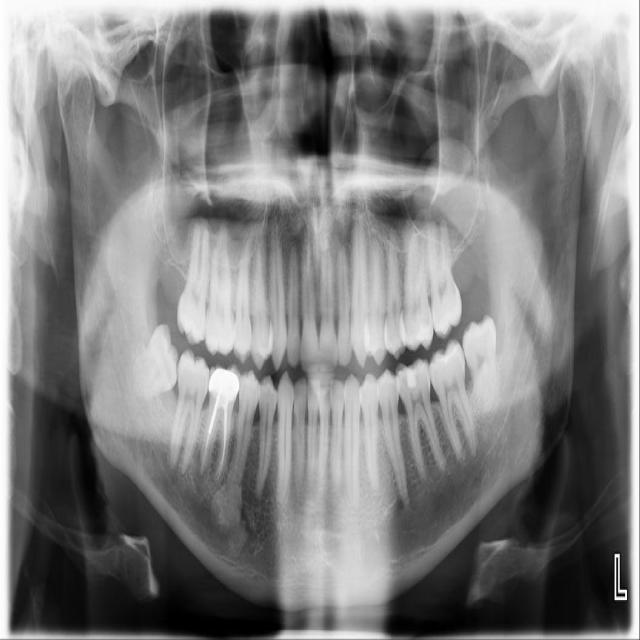Crown: (208, 363, 240, 404)
Filling: (394, 362, 425, 388)
Periapical lesion: (207, 483, 245, 532), (245, 479, 274, 536), (467, 438, 480, 460), (197, 464, 207, 482), (180, 462, 191, 478)
Root Canal Treatment: (217, 409, 225, 475), (210, 415, 215, 439), (204, 440, 210, 460), (200, 460, 204, 473)
impacted tooth: (117, 324, 178, 404), (462, 313, 501, 411)
